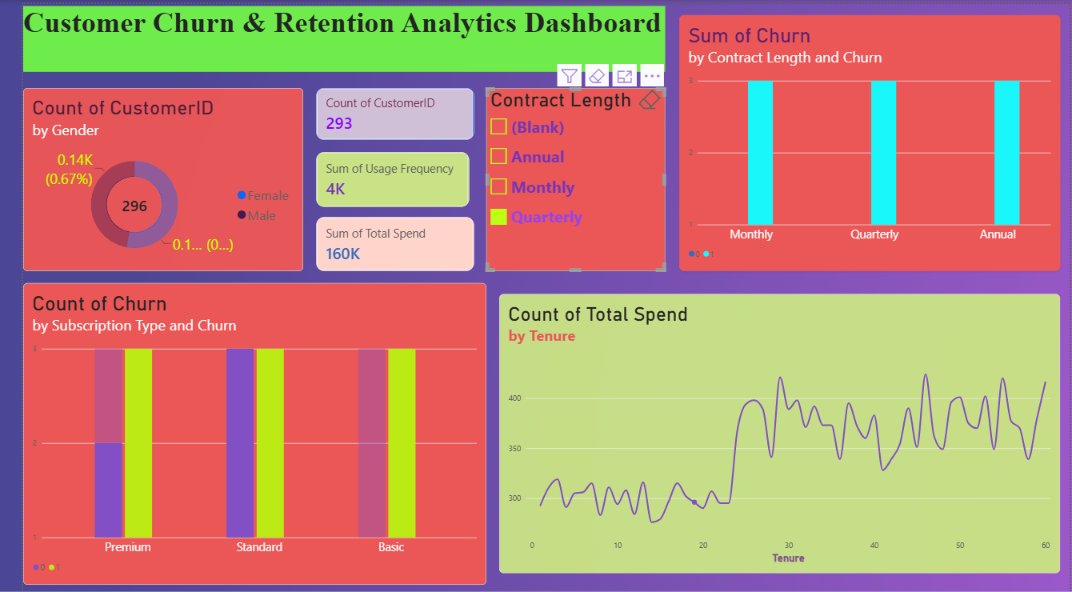

The page's visual inventory and layout, read from the dashboard file:
{"tool":"powerbi","page":{"name":"Page 1","canvas":[1920,1080],"ordinal":0},"visuals":[{"type":"clusteredColumnChart","fields":{"Category":["customer_churn_dataset-training.Contract Length"],"Series":["customer_churn_dataset-training.Churn"],"Y":["Sum(customer_churn_dataset-training.Churn)"]},"box":[1203.3,20.2,698.8,469.6],"z":0},{"type":"clusteredColumnChart","fields":{"Category":["customer_churn_dataset-training.Subscription Type"],"Series":["customer_churn_dataset-training.Churn"],"Y":["CountNonNull(customer_churn_dataset-training.Churn)"]},"box":[0,511.8,849.3,553.9],"z":1000},{"type":"cardVisual","fields":{"Data":["CountNonNull(customer_churn_dataset-training.CustomerID)"]},"box":[537.4,154.1,289.8,95.4],"z":2000},{"type":"slicer","fields":{"Values":["customer_churn_dataset-testing-.Contract Length"]},"box":[849.3,154.1,328.3,335.7],"z":3000},{"type":"donutChart","fields":{"Category":["customer_churn_dataset-testing-.Gender"],"Y":["CountNonNull(customer_churn_dataset-testing-.CustomerID)"]},"box":[0,154.1,513.6,335.7],"z":4000},{"type":"cardVisual","fields":{"Data":["Sum(customer_churn_dataset-training.Total Spend)"]},"box":[537.4,390.7,289.8,99],"z":5000},{"type":"cardVisual","fields":{"Data":["Sum(customer_churn_dataset-training.Usage Frequency)"]},"box":[537.4,271.5,280.6,100.9],"z":6000},{"type":"lineChart","fields":{"Category":["customer_churn_dataset-testing-.Tenure"],"Y":["CountNonNull(customer_churn_dataset-testing-.Total Spend)"]},"box":[873.1,531.9,1029,511.8],"z":7000},{"type":"textbox","box":[0,3.7,1177.6,121.1],"z":8000}]}

Visuals, with their boxes in screenshot pixels (x1, y1, x2, y2), scaled from the page's 1920x1080 canvas onto the 1072x592 screenshot:
clusteredColumnChart - customer_churn_dataset-training.Contract Length x customer_churn_dataset-training.Churn: locate(672, 11, 1062, 268)
clusteredColumnChart - customer_churn_dataset-training.Subscription Type x customer_churn_dataset-training.Churn: locate(0, 281, 474, 584)
cardVisual - CountNonNull(customer_churn_dataset-training.CustomerID): locate(300, 84, 462, 137)
slicer - customer_churn_dataset-testing-.Contract Length: locate(474, 84, 657, 268)
donutChart - customer_churn_dataset-testing-.Gender x CountNonNull(customer_churn_dataset-testing-.CustomerID): locate(0, 84, 287, 268)
cardVisual - Sum(customer_churn_dataset-training.Total Spend): locate(300, 214, 462, 268)
cardVisual - Sum(customer_churn_dataset-training.Usage Frequency): locate(300, 149, 457, 204)
lineChart - customer_churn_dataset-testing-.Tenure x CountNonNull(customer_churn_dataset-testing-.Total Spend): locate(487, 292, 1062, 572)
textbox: locate(0, 2, 657, 68)
